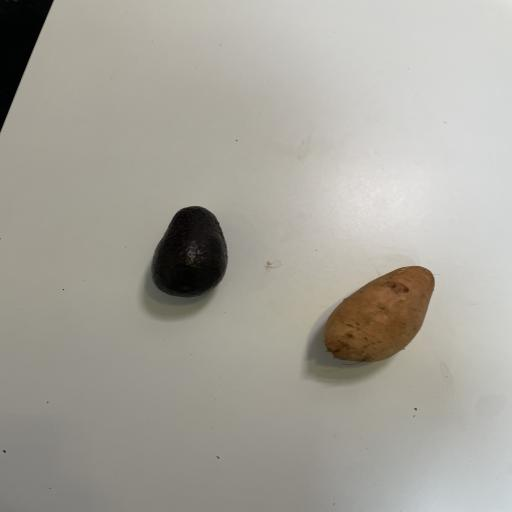avocado: (144, 202, 231, 302)
sweet_potato: (316, 260, 440, 368)
